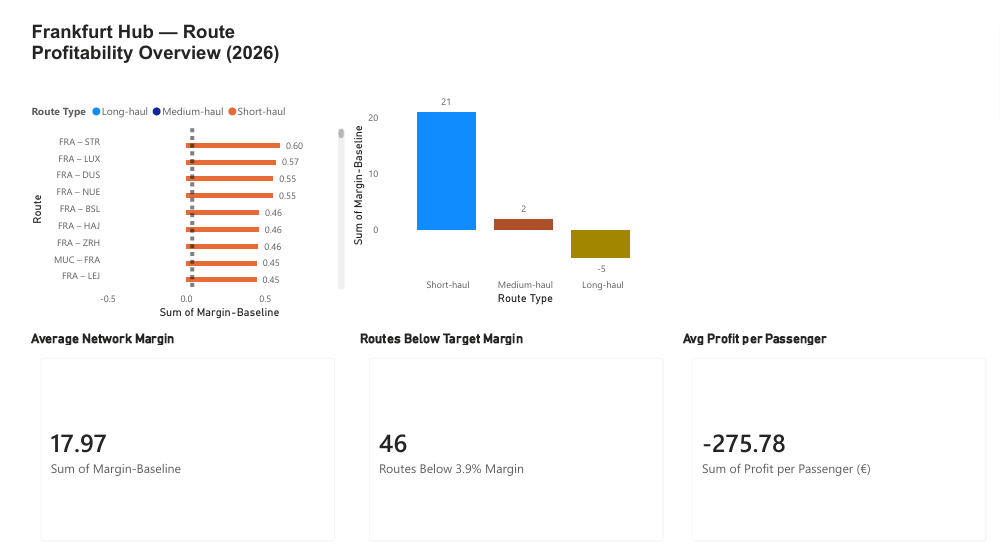

The page's visual inventory and layout, read from the dashboard file:
{"tool":"powerbi","page":{"name":"Frankfurt Hub — Route Profitability Overview (2026)","canvas":[1280,720],"ordinal":0},"visuals":[{"type":"textbox","box":[21.8,25.2,359.5,75.6],"z":0},{"type":"clusteredBarChart","fields":{"Category":["airline_scenario_dashboard.Route"],"Y":["Sum(airline_scenario_dashboard.Margin-Baseline)"],"Series":["airline_scenario_dashboard.Route Type"]},"box":[21.7,126.7,415,293.3],"z":1000},{"type":"clusteredColumnChart","fields":{"Category":["airline_scenario_dashboard.Route Type"],"Y":["Sum(airline_scenario_dashboard.Margin-Baseline)"]},"box":[436.7,111.7,415,290],"z":2000},{"type":"cardVisual","title":"Average Network Margin","fields":{"Data":["Sum(airline_scenario_dashboard.Margin-Baseline)"]},"box":[22,430,415,290],"z":2001},{"type":"cardVisual","title":"Avg Profit per Passenger","fields":{"Data":["Sum(airline_scenario_dashboard.Profit per Passenger (€))"]},"box":[865,430,415,290],"z":2002},{"type":"cardVisual","title":"Routes Below Target Margin","fields":{"Data":["airline_scenario_dashboard.Routes Below 3.9% Margin"]},"box":[446.7,430,415,290],"z":2003}]}

Visuals, with their boxes on the page's 1280x720 design canvas (x1, y1, x2, y2). These are canvas units, not pixel positions in the 1005x546 screenshot, which may show the page scaled, cropped or inside an application window:
textbox: {"left": 22, "top": 25, "right": 381, "bottom": 101}
clusteredBarChart - airline_scenario_dashboard.Route x Sum(airline_scenario_dashboard.Margin-Baseline): {"left": 22, "top": 127, "right": 437, "bottom": 420}
clusteredColumnChart - airline_scenario_dashboard.Route Type x Sum(airline_scenario_dashboard.Margin-Baseline): {"left": 437, "top": 112, "right": 852, "bottom": 402}
"Average Network Margin" cardVisual: {"left": 22, "top": 430, "right": 437, "bottom": 720}
"Avg Profit per Passenger" cardVisual: {"left": 865, "top": 430, "right": 1280, "bottom": 720}
"Routes Below Target Margin" cardVisual: {"left": 447, "top": 430, "right": 862, "bottom": 720}
